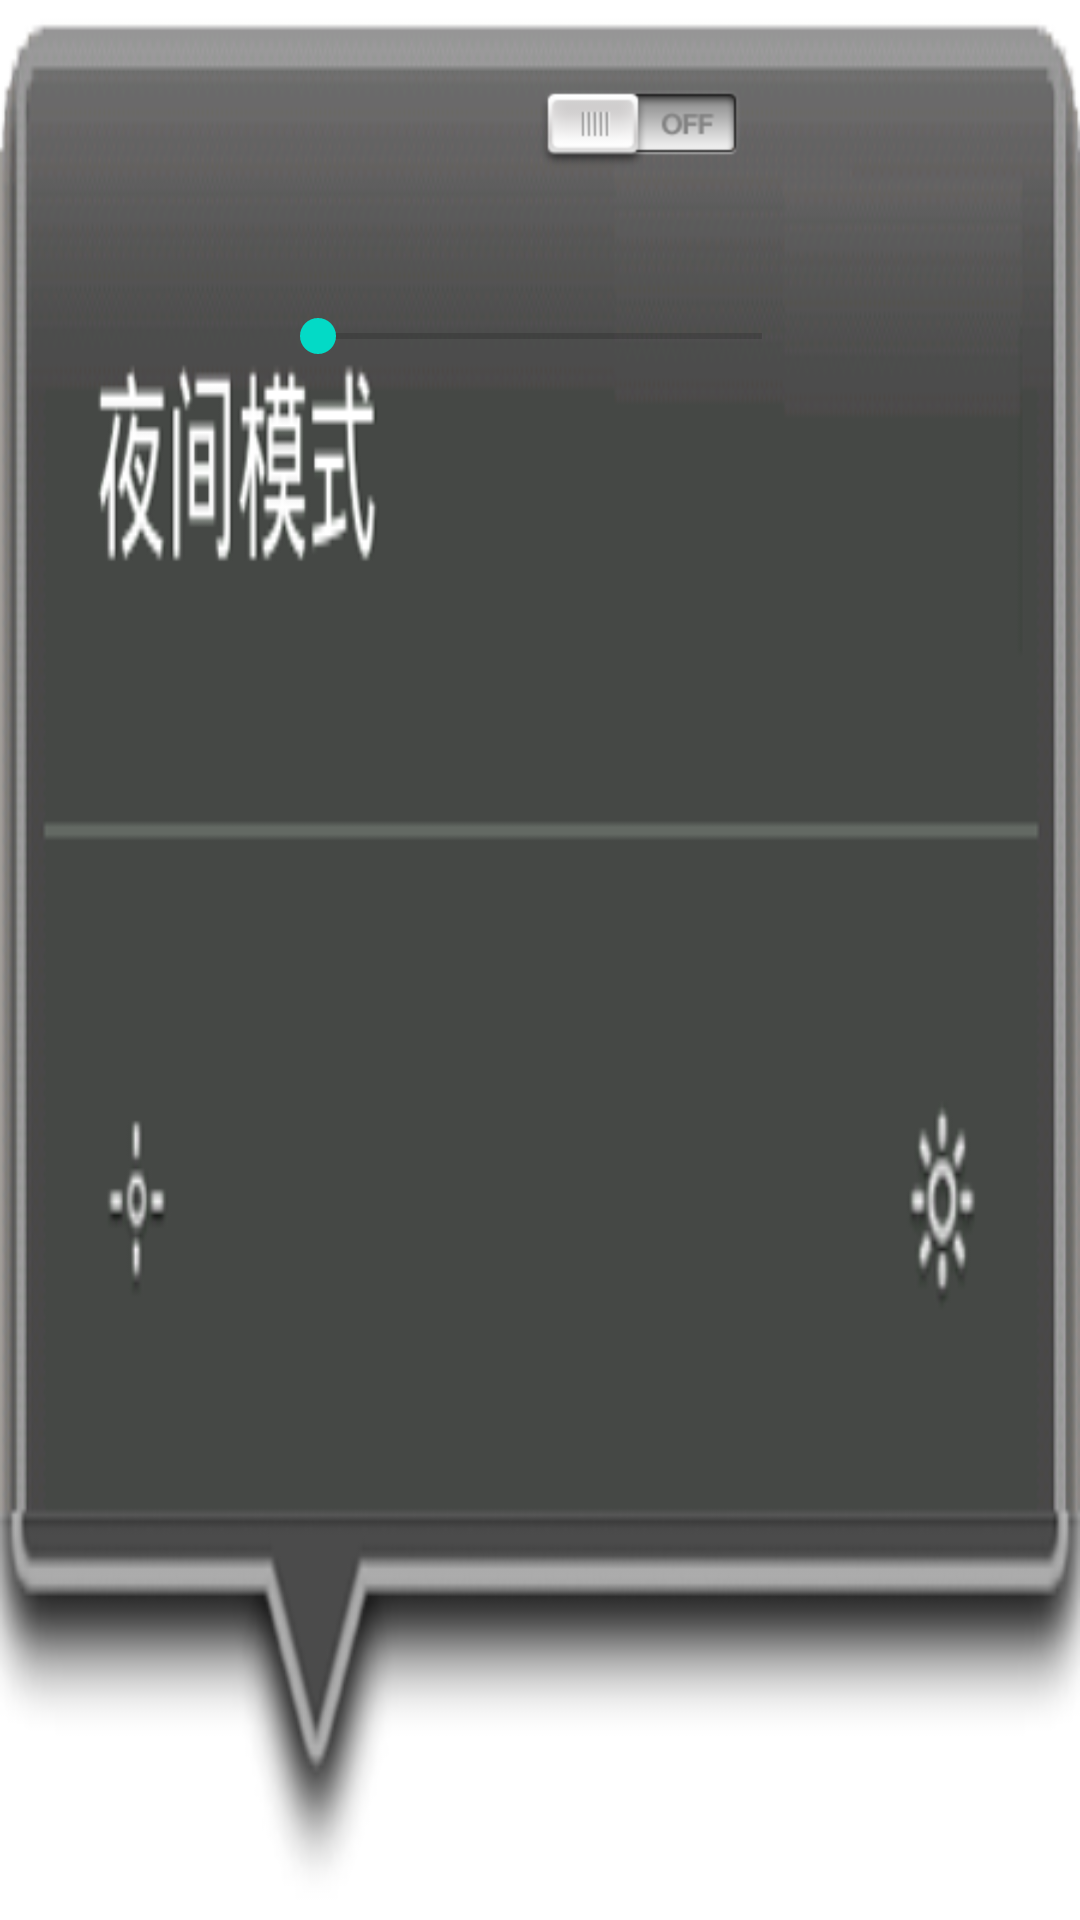

Icons on this 1080w x 1920h Android screen, each with the point to tap as [x,y]:
reader switch off: [641,127]
